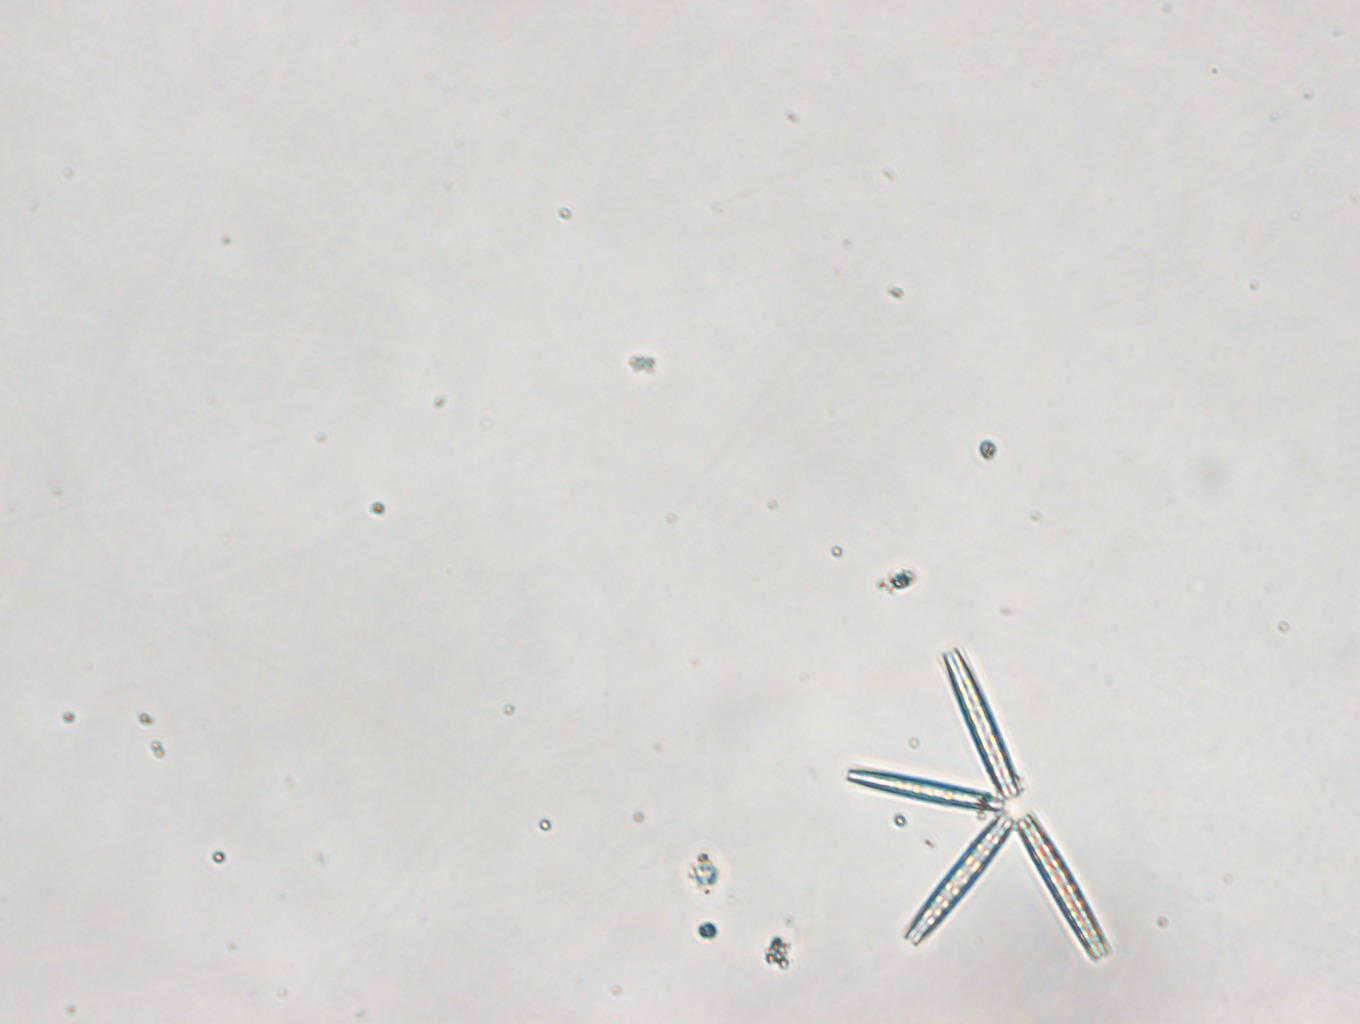thalassionema nitzschioides: (846, 648, 1113, 959)
